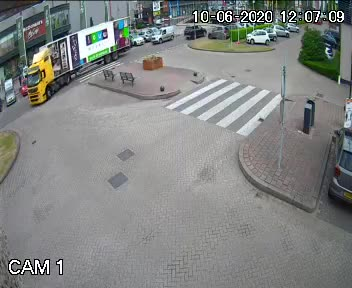car: (22, 14, 137, 103), (147, 26, 176, 42), (180, 24, 207, 38)
